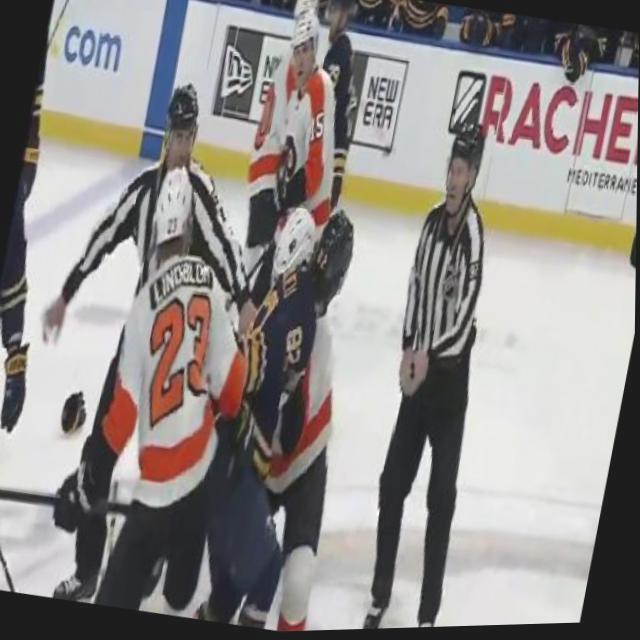fight: (184, 200, 380, 636)
